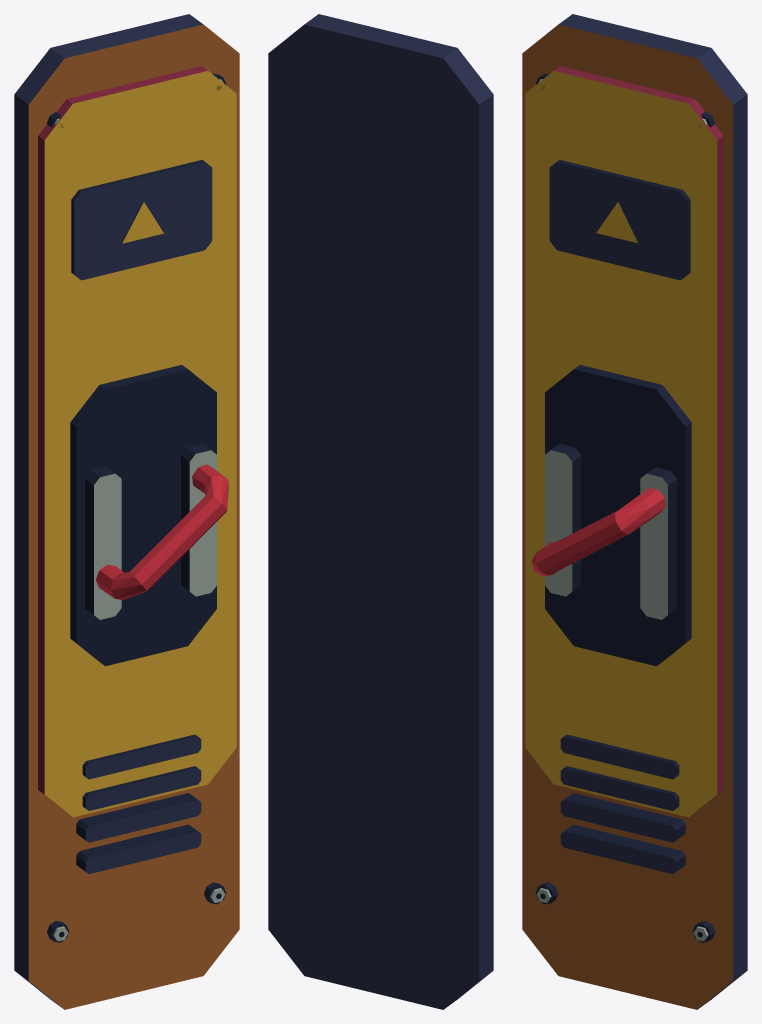
Rendered from lockout_latch.glb.
The picture shows the model from 3 angles, left to right: view 1: azimuth 30°, elevation 25°; view 2: azimuth 150°, elevation 25°; view 3: azimuth 330°, elevation 25°; orthographic projection.
Parts seen in each view (by area): view 1: Folded_hatch, Jamb_casting, Flush_striker, Warning_badge, Kick_louvers, Latch_feet, Pull_handle, Captive_screws; view 2: Jamb_casting; view 3: Folded_hatch, Jamb_casting, Flush_striker, Warning_badge, Kick_louvers, Latch_feet, Pull_handle, Captive_screws.
Boxes of the visible parts, left/top/right/bottom form: Folded_hatch: left=38, top=66, right=236, bottom=817; Jamb_casting: left=14, top=14, right=239, bottom=1009; Flush_striker: left=70, top=365, right=216, bottom=666; Warning_badge: left=71, top=159, right=212, bottom=280; Kick_louvers: left=76, top=734, right=201, bottom=874; Latch_feet: left=85, top=443, right=217, bottom=619; Pull_handle: left=96, top=464, right=228, bottom=600; Captive_screws: left=47, top=73, right=226, bottom=942; Jamb_casting: left=268, top=14, right=493, bottom=1009; Folded_hatch: left=525, top=66, right=723, bottom=817; Jamb_casting: left=522, top=14, right=747, bottom=1009; Flush_striker: left=545, top=365, right=691, bottom=666; Warning_badge: left=549, top=159, right=690, bottom=280; Kick_louvers: left=560, top=734, right=685, bottom=874; Latch_feet: left=544, top=443, right=676, bottom=619; Pull_handle: left=531, top=488, right=665, bottom=576; Captive_screws: left=535, top=73, right=714, bottom=942.
Bounding box in the file's own units: 0.51 × 2.2 × 0.2691.
